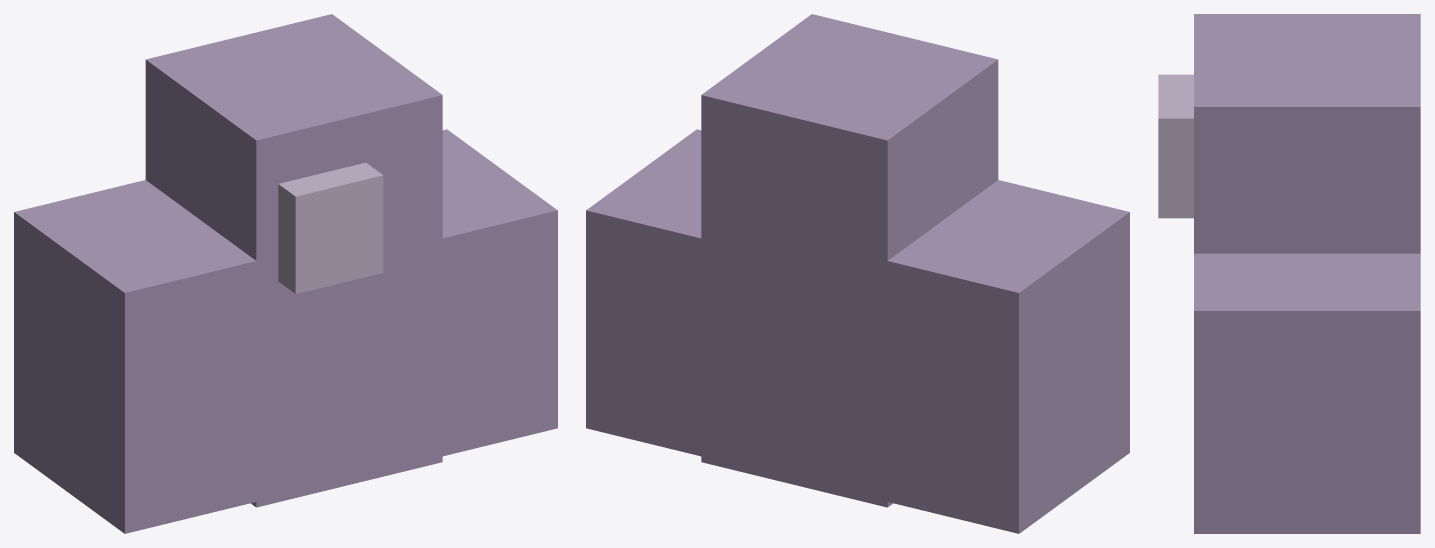
File: dye_purple.glb
The picture shows the model from 3 angles, left to right: view 1: azimuth 30°, elevation 25°; view 2: azimuth 150°, elevation 25°; view 3: azimuth 270°, elevation 25°; orthographic projection. The views are drawn at different scales.
Parts seen in each view (by area): view 1: dye_purple; view 2: dye_purple; view 3: dye_purple.
Part boxes in pixels (x1=…): dye_purple: x1=14, y1=14, x2=557, y2=533; dye_purple: x1=586, y1=14, x2=1129, y2=533; dye_purple: x1=1158, y1=14, x2=1420, y2=533.
Bounding box in the file's own units: 0.79 × 0.64 × 0.405.
